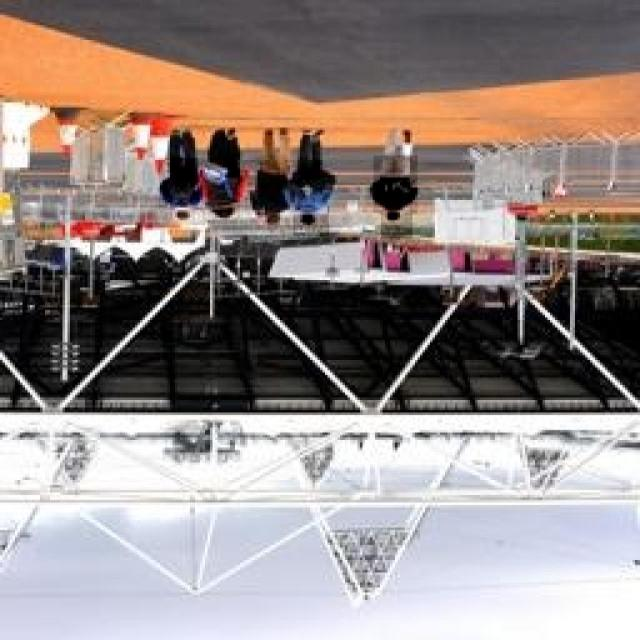Helmet: (373, 156, 418, 213), (201, 158, 243, 208), (160, 158, 200, 210), (254, 165, 290, 217), (291, 163, 327, 213), (293, 206, 329, 236), (381, 206, 413, 238), (166, 206, 198, 231), (254, 207, 288, 230), (208, 204, 244, 224)
